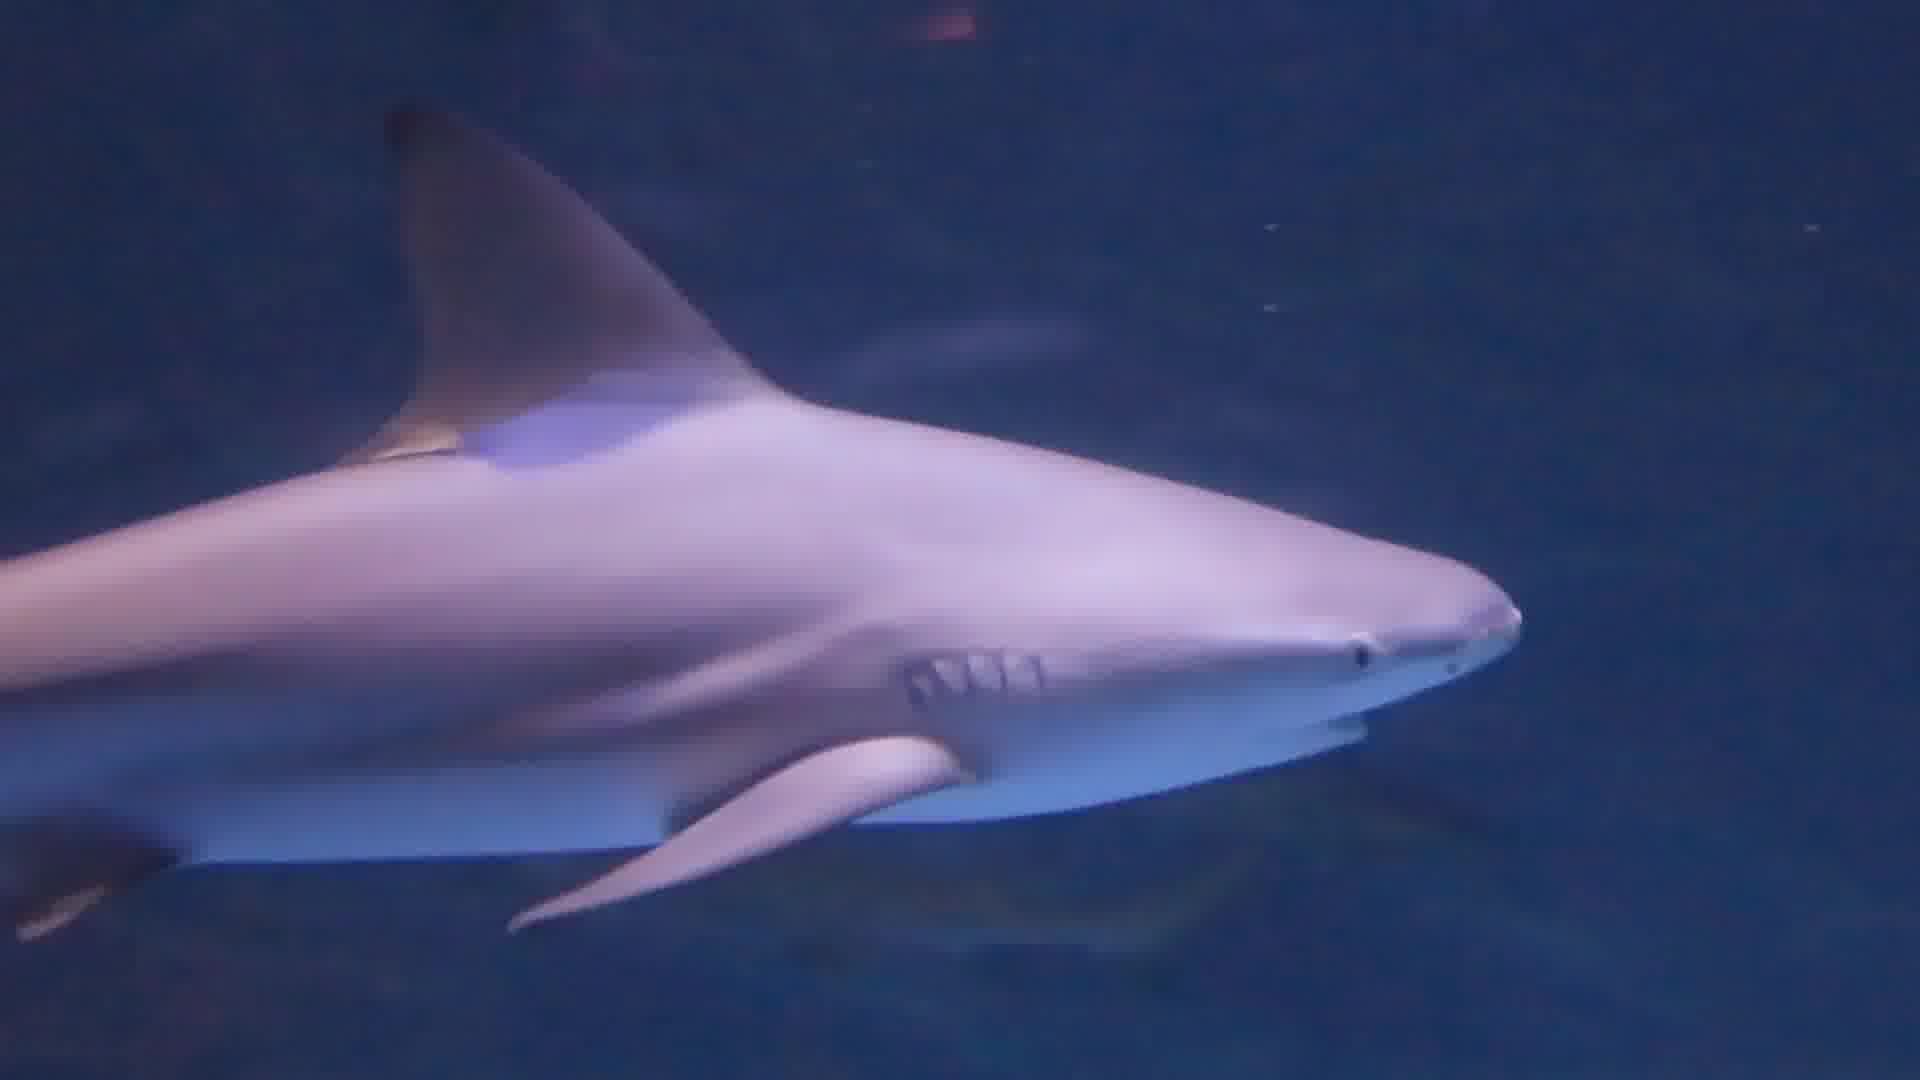Carcharhinus leucas: (1, 65, 1534, 940)
